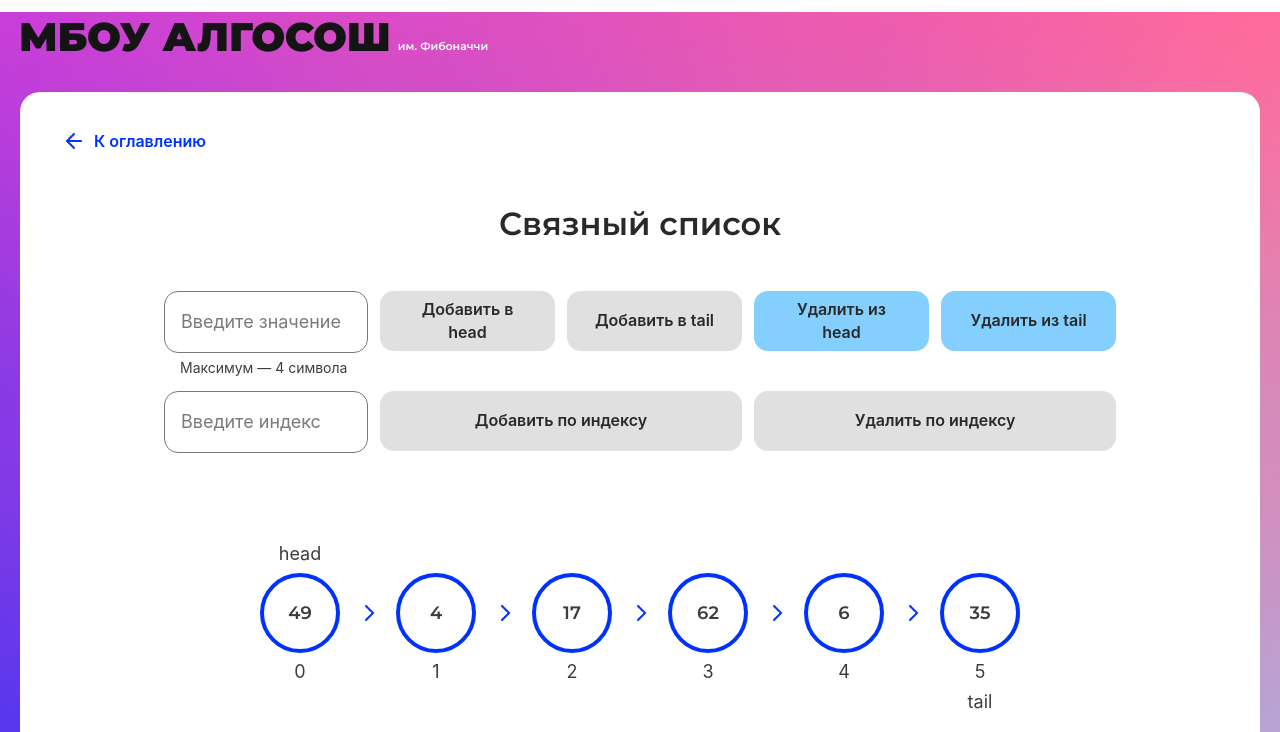
Test: Тесты страницы связного списка › Проверка состояний кнопок › Кнопки добавления/удаления по индексу верно меняют значение атрибута disabled
Expected: the button "Добавить по индексу" is disabled, [380,391,742,451]
Expected: the button "Удалить по индексу" is disabled, [754,391,1116,451]
Type "123" into the field named "value".
click(266, 322); type("123")  # box [164,291,368,353]
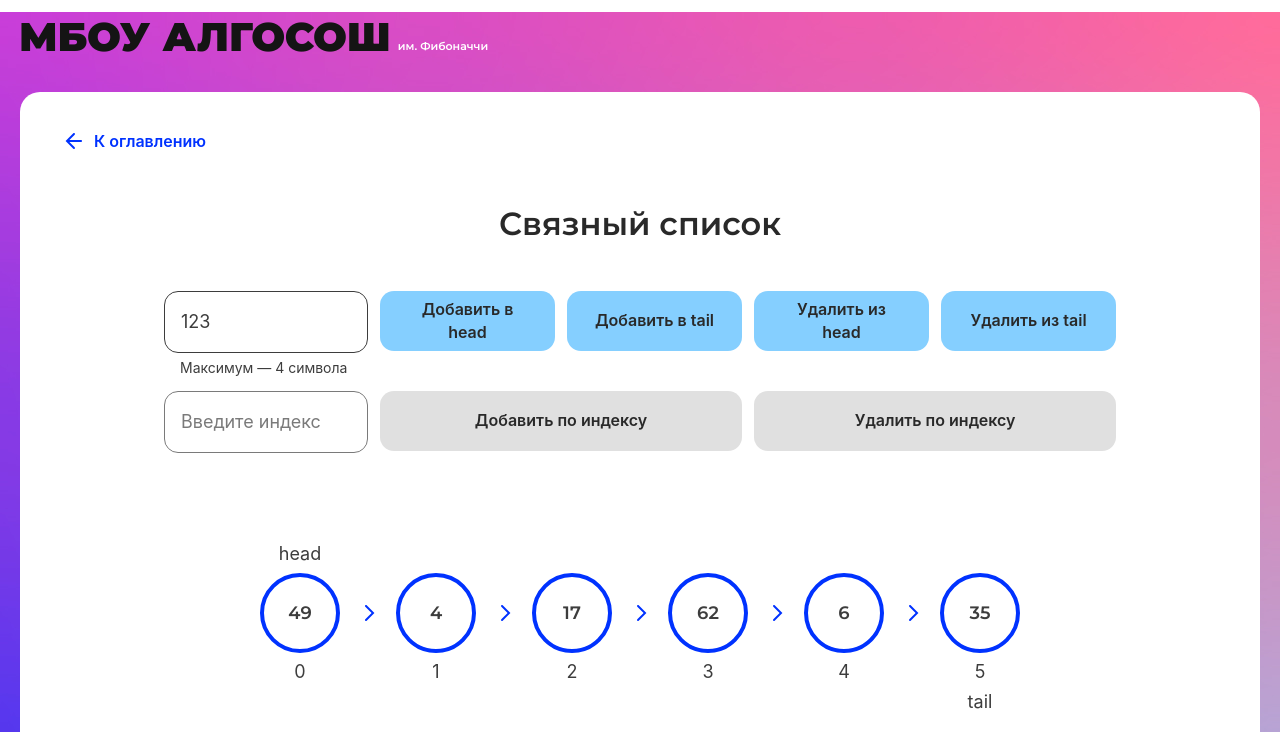
Type "3" into the field named "index".
click(266, 422); type("3")  # box [164,391,368,453]
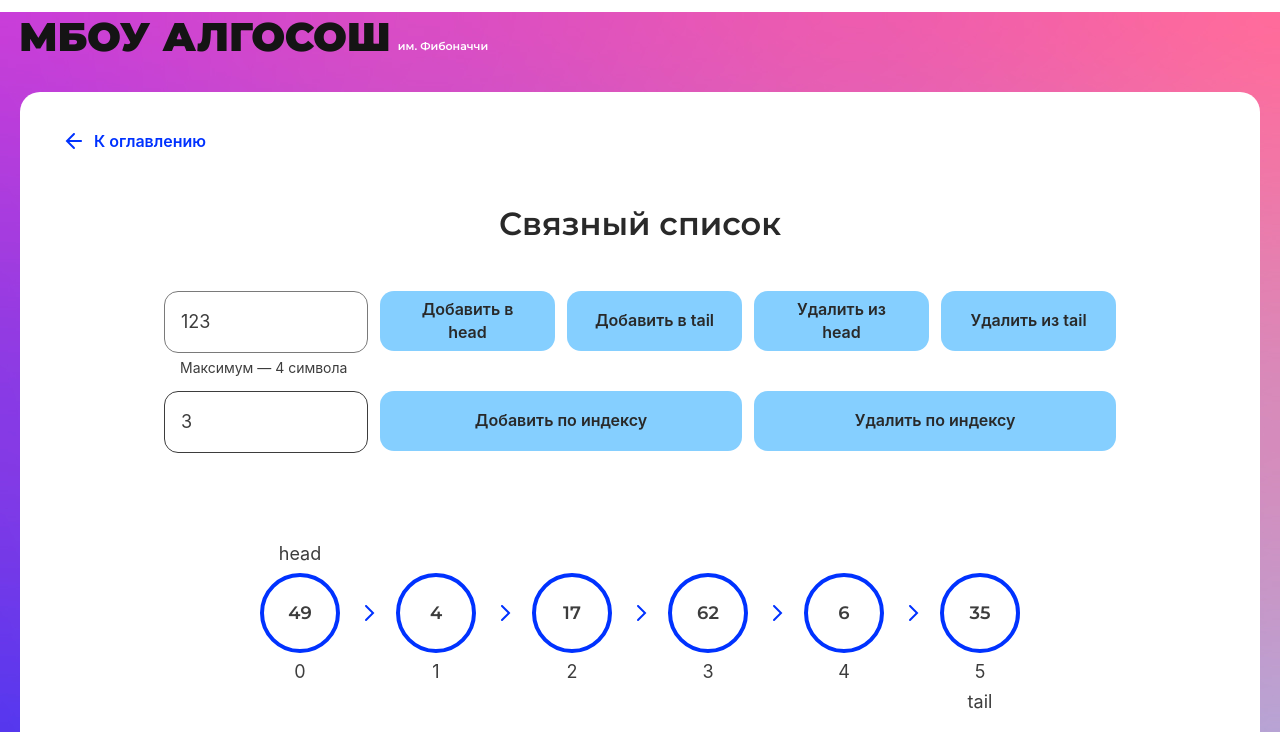
Expected: the text "Добавить по индексу" is enabled
Expected: the text "Удалить по индексу" is enabled
Clear the 1st field named "value" at point(266, 322), box [164,291,368,353]
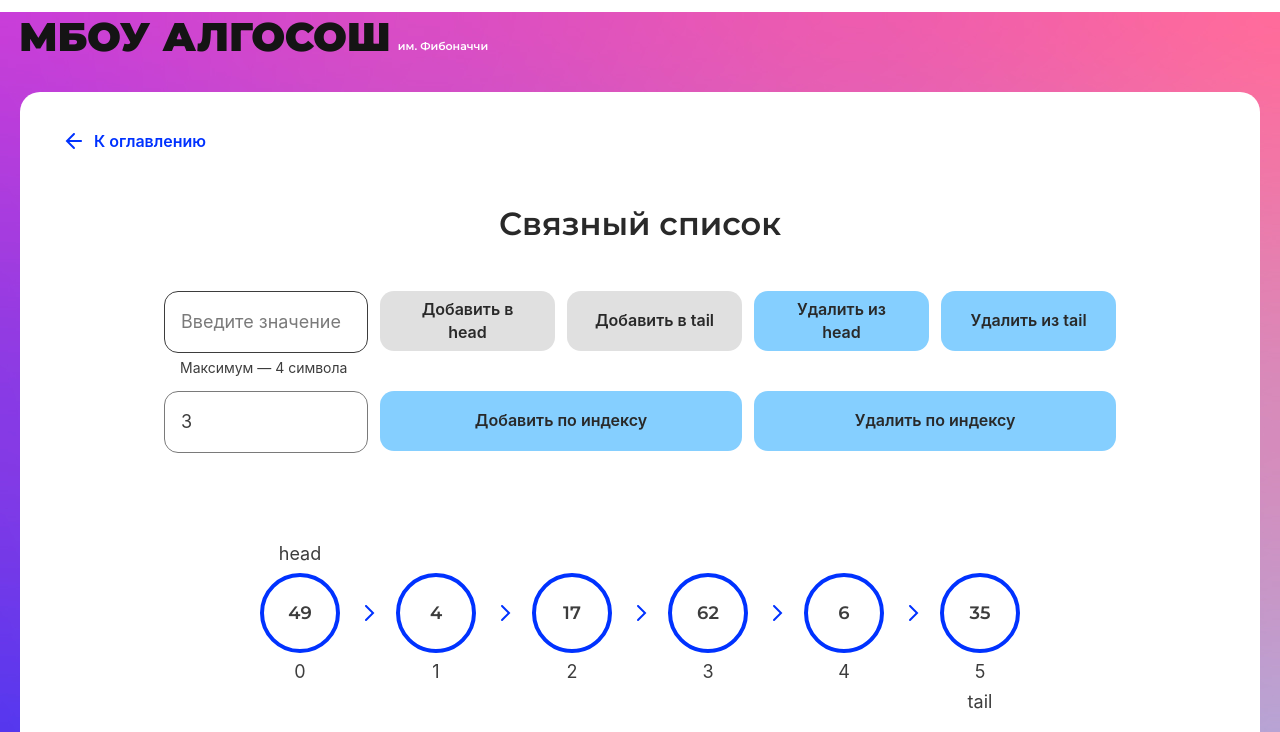
Clear the field named "index" at point(266, 422), box [164,391,368,453]
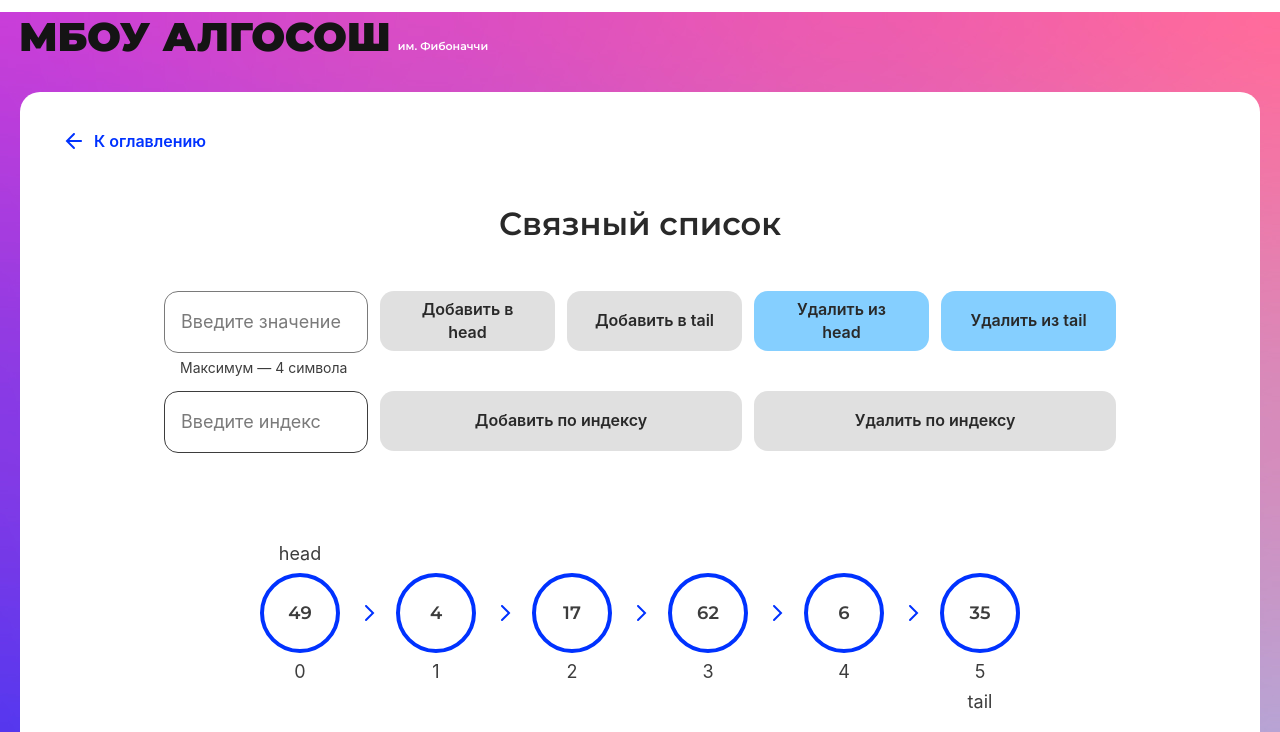
Expected: the button "Добавить по индексу" is disabled, [380,391,742,451]
Expected: the button "Удалить по индексу" is disabled, [754,391,1116,451]
